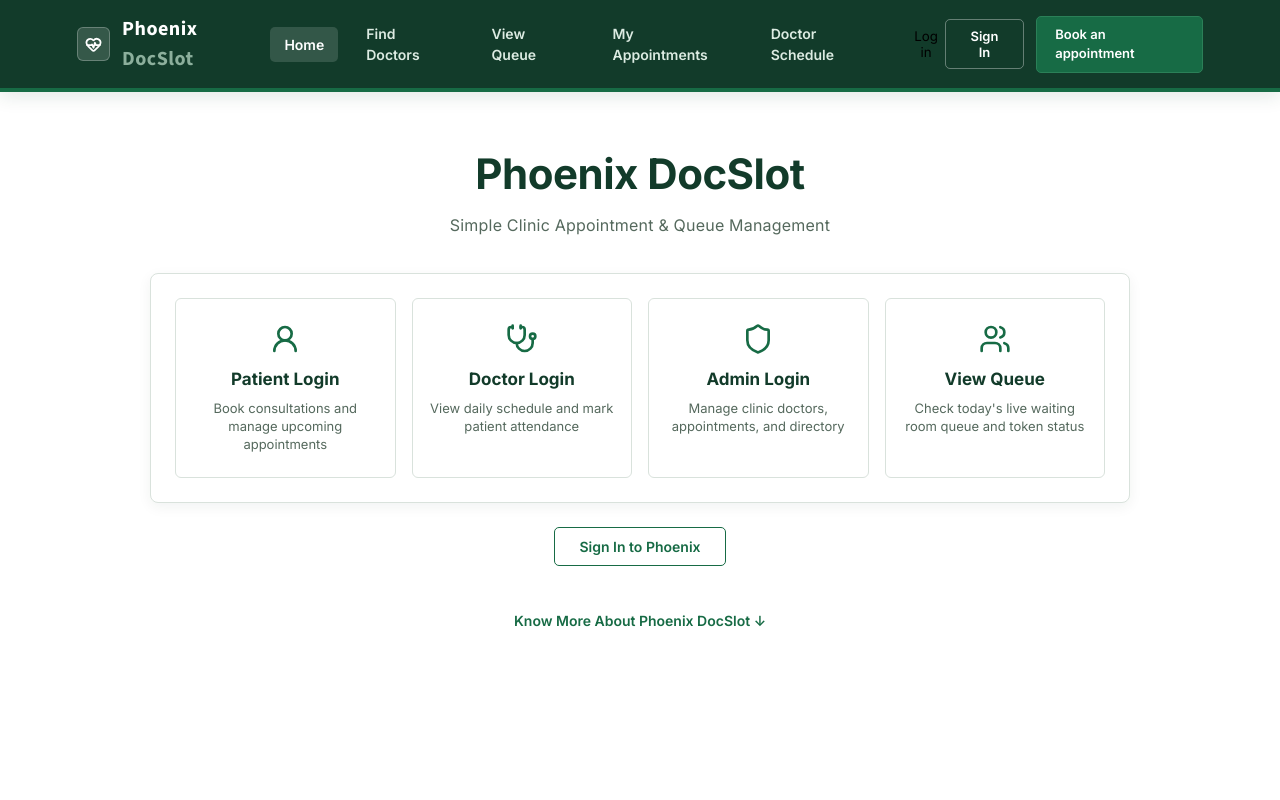
Scenario: PhoenixHome — Sign In Button and Auth Modal Interactions › closes the authentication modal when clicking the backdrop overlay
Open modal via hero button
What coordinates should you click on to do the following:
click the button with class "hero-signin-btn"
I would click on:
 (640, 547)
Its box is x1=554 y1=527 x2=726 y2=566.
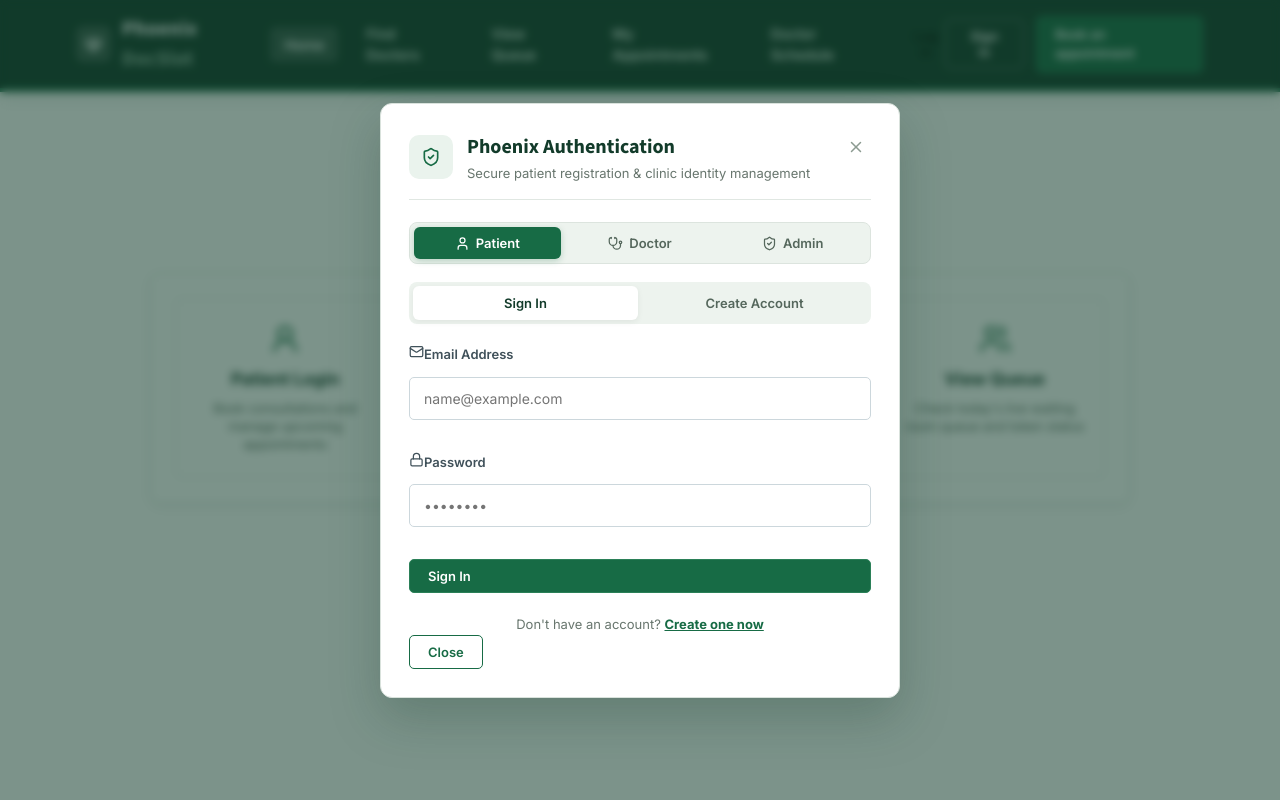
expect the dialog is shown: met
Click backdrop itself
What coordinates should you click on to do the following:
click the dialog
I would click on:
 (77, 400)
Its box is x1=0 y1=0 x2=1279 y2=799.
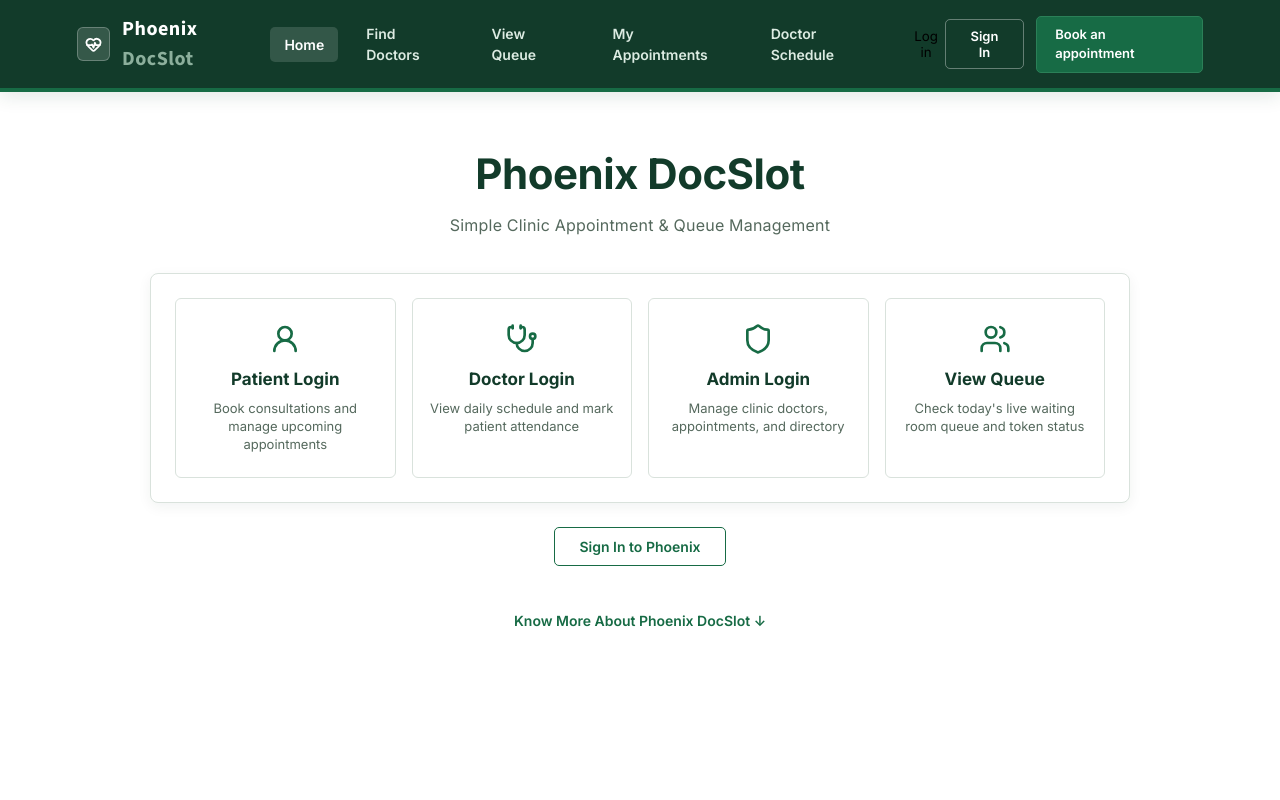
expect the dialog is gone: met
